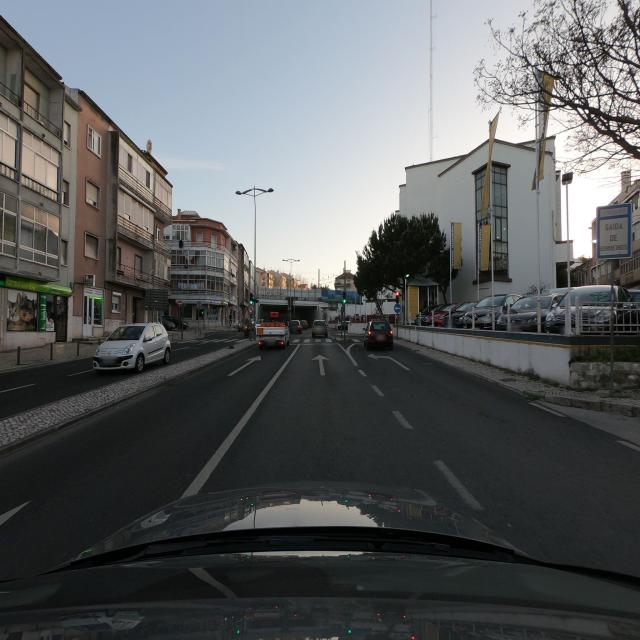car: (544, 284, 638, 337), (92, 322, 172, 374), (496, 295, 554, 332), (468, 294, 514, 329), (363, 320, 394, 350), (416, 304, 442, 326), (160, 314, 188, 330), (311, 319, 329, 339), (289, 319, 302, 335)
